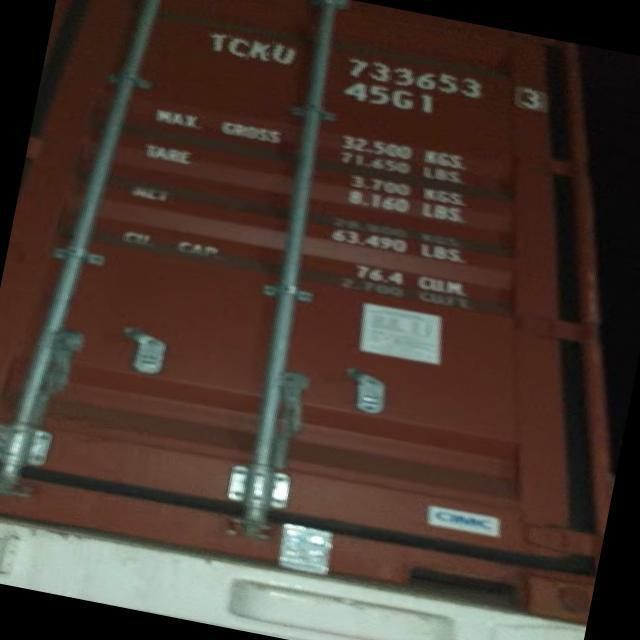ISO: (343, 76, 448, 116)
container_number: (195, 22, 560, 111)
